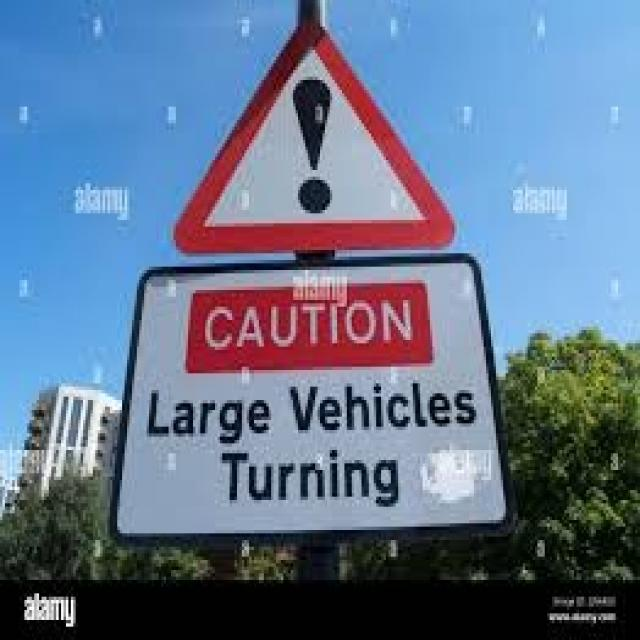warning: (170, 9, 456, 262)
